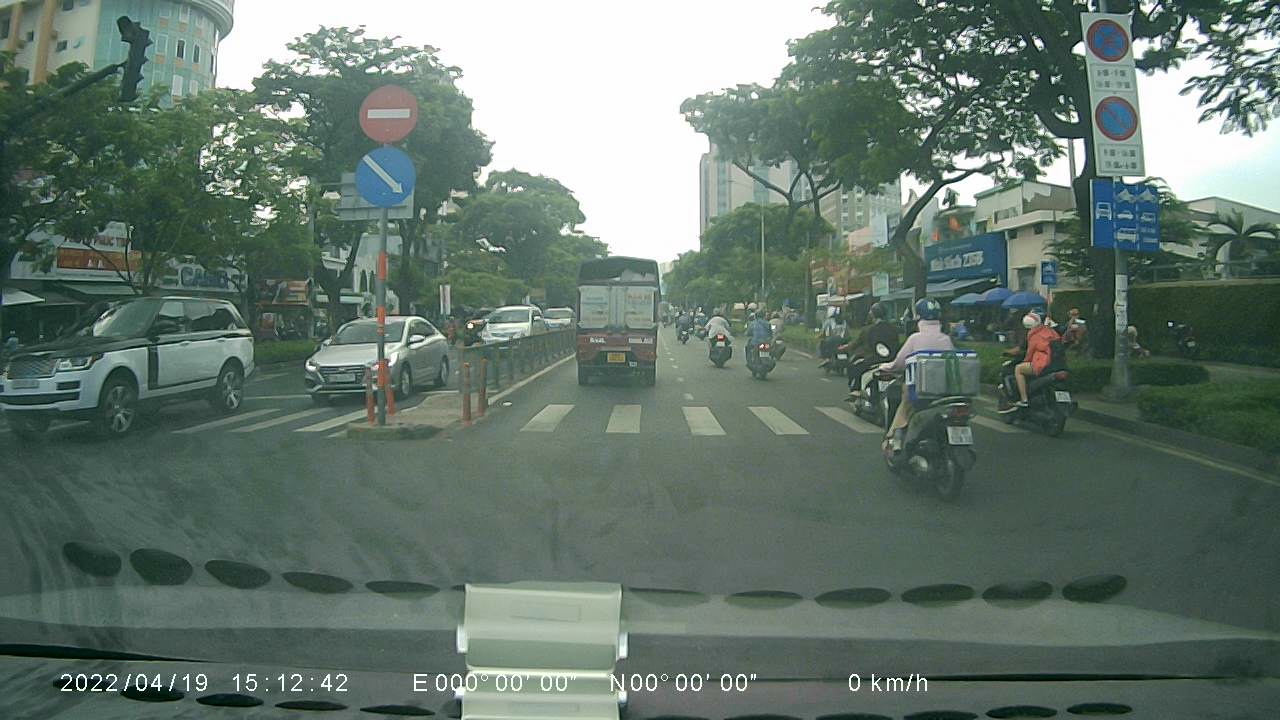Bien khac: (1084, 15, 1133, 63)
Cam di nguoc chieu: (356, 81, 419, 143)
Cam do xe: (1092, 91, 1141, 142)
Huong di phai re phai: (351, 145, 422, 212)
